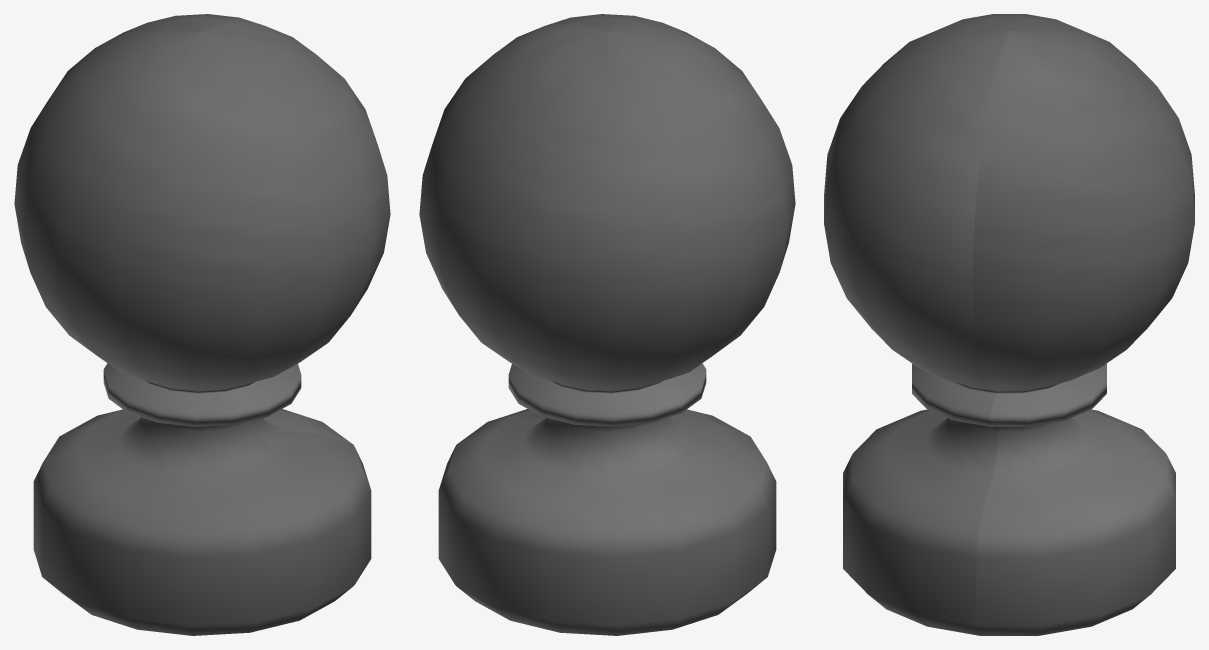
The model's file is polefinial_ball_large.obj.
The picture shows the model from 3 angles, left to right: view 1: azimuth 30°, elevation 25°; view 2: azimuth 150°, elevation 25°; view 3: azimuth 270°, elevation 25°; orthographic projection.
Visible parts, largest first — view 1: polefinial_ball_large; view 2: polefinial_ball_large; view 3: polefinial_ball_large.
Part boxes in pixels (x1,y1,x2,y2): polefinial_ball_large: (14, 14, 390, 635); polefinial_ball_large: (419, 14, 795, 635); polefinial_ball_large: (824, 14, 1194, 635).
Size of the model in its own units: 0.4778 by 0.7732 by 0.4778.
